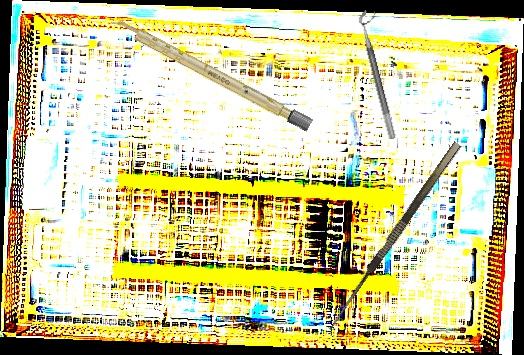Fixation Ring: (356, 8, 407, 140)
Hook Surgical: (325, 141, 472, 338)
Scalpel Handle: (108, 14, 314, 132)
